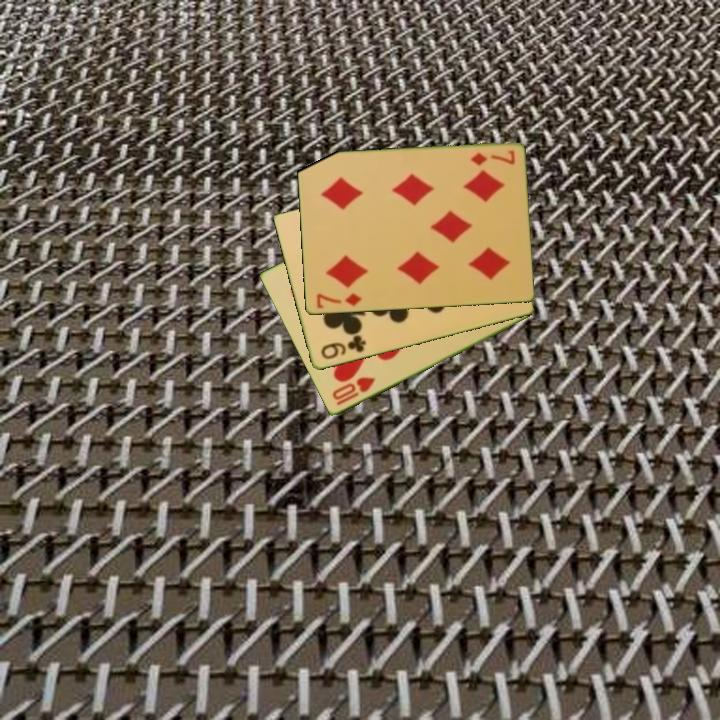10h: (328, 374, 378, 409)
7d: (313, 290, 364, 312), (467, 147, 518, 169)
9c: (317, 332, 369, 363)
